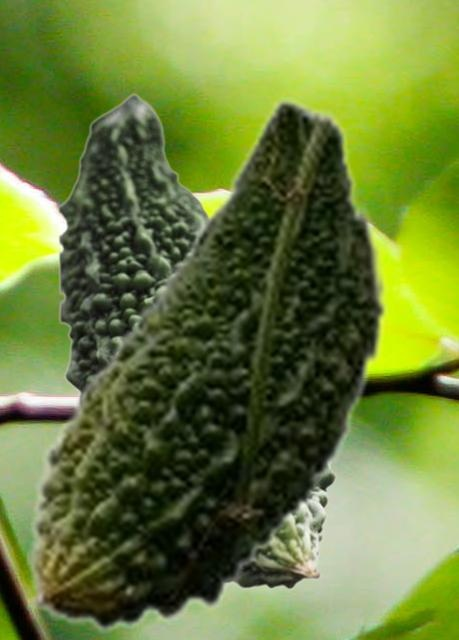ampalaya: (27, 97, 389, 632), (57, 92, 336, 589)
